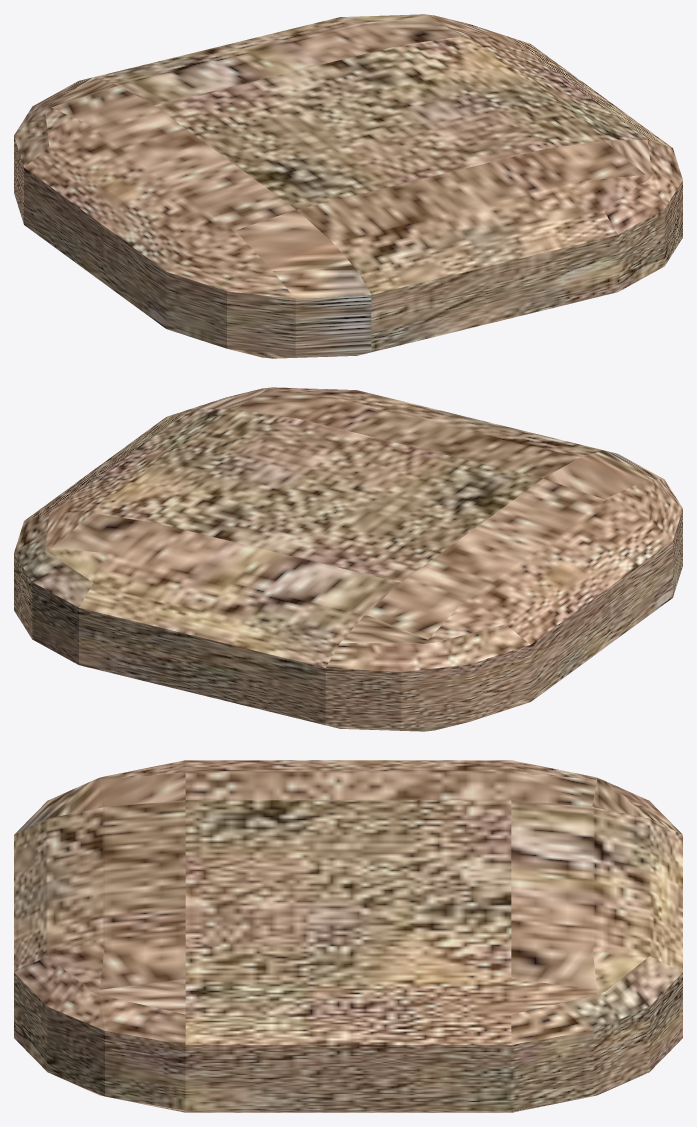
Rendered from spawndirt.obj.
3 views of the same model, one above another, from view 1: azimuth 30°, elevation 25°; view 2: azimuth 150°, elevation 25°; view 3: azimuth 270°, elevation 25° (orthographic). The views are drawn at different scales.
Parts seen in each view (by area): view 1: Cube.020; view 2: Cube.020; view 3: Cube.020.
Boxes of the visible parts, box(x1,y1,x2,y2) form: Cube.020: box(14, 14, 682, 358); Cube.020: box(14, 387, 682, 731); Cube.020: box(14, 760, 682, 1112).
Size of the model in its own units: 28.17 by 6.27 by 28.17.
Materials: 1 (1 with a texture image).
